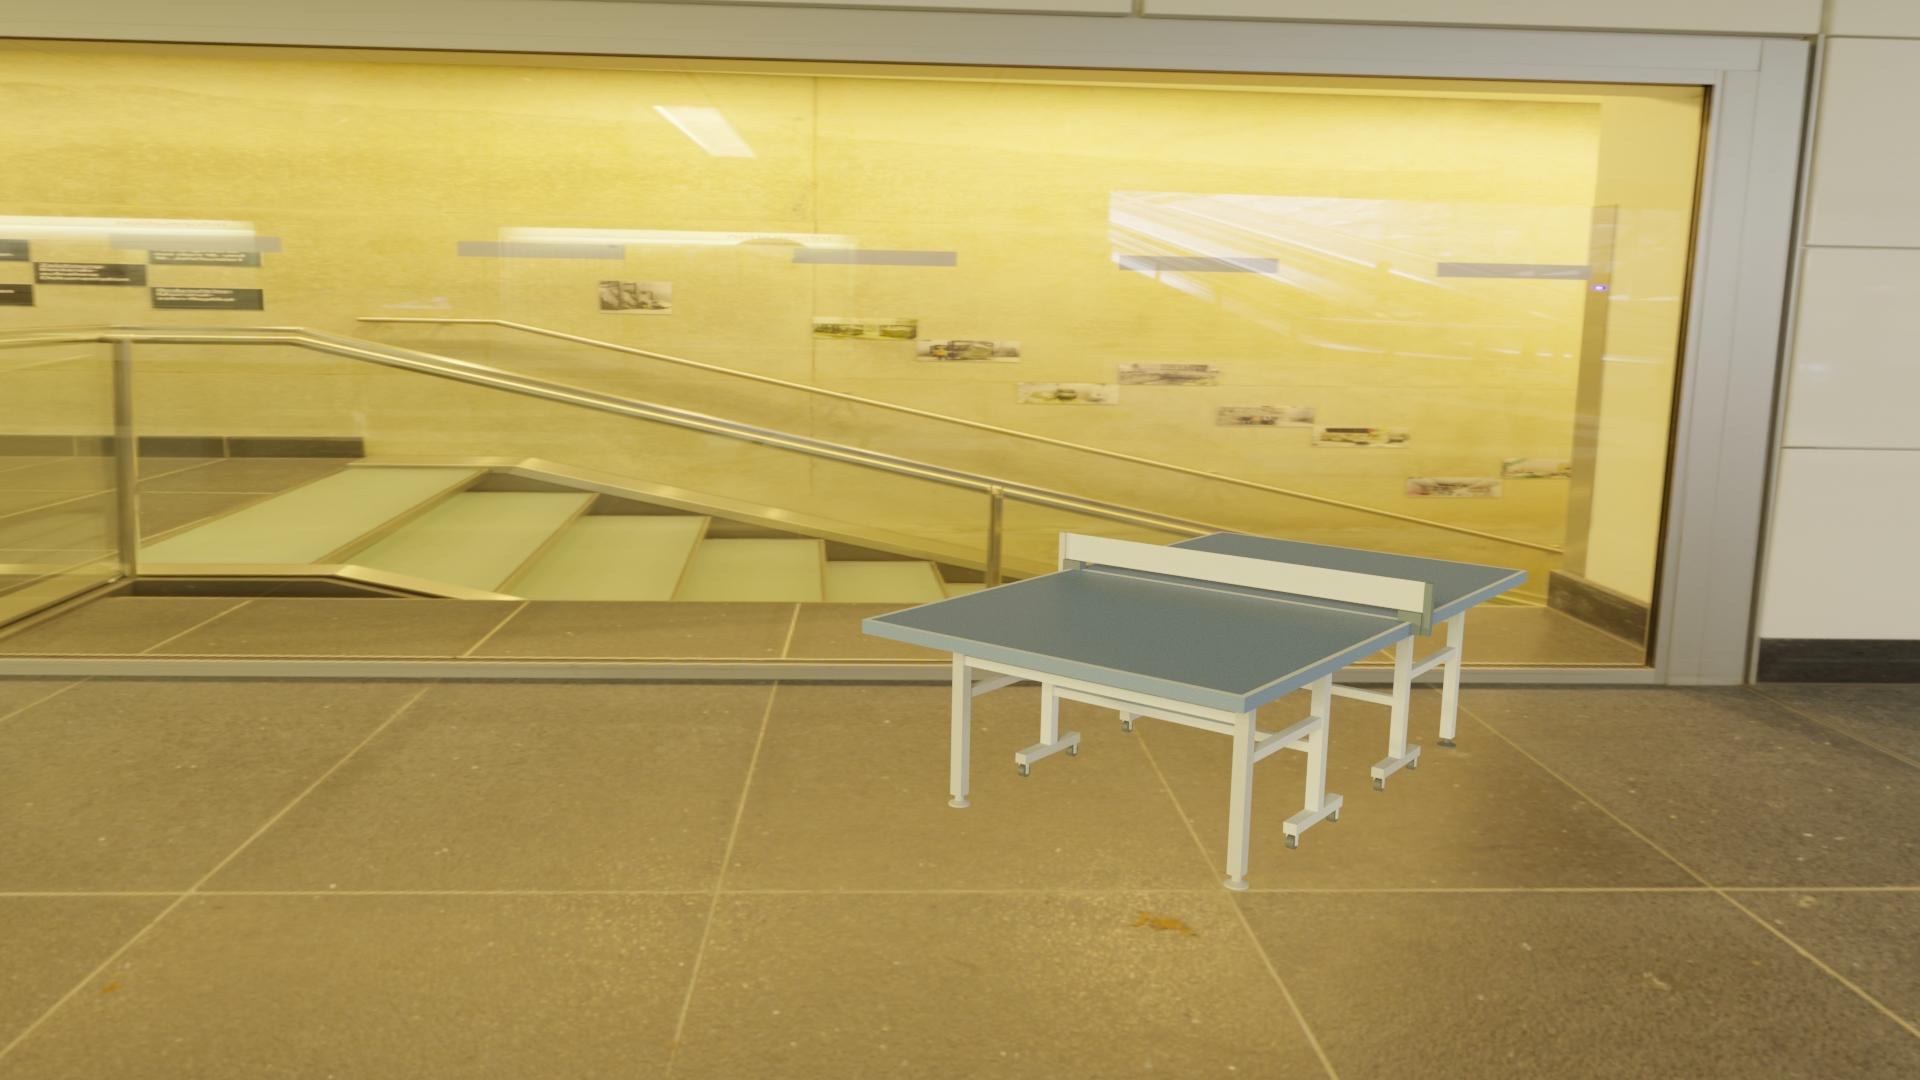table: (870, 533, 1522, 695)
